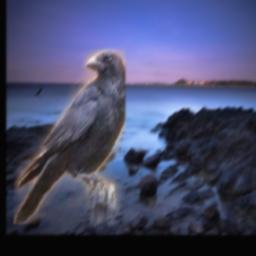Crow: (14, 49, 125, 224)
